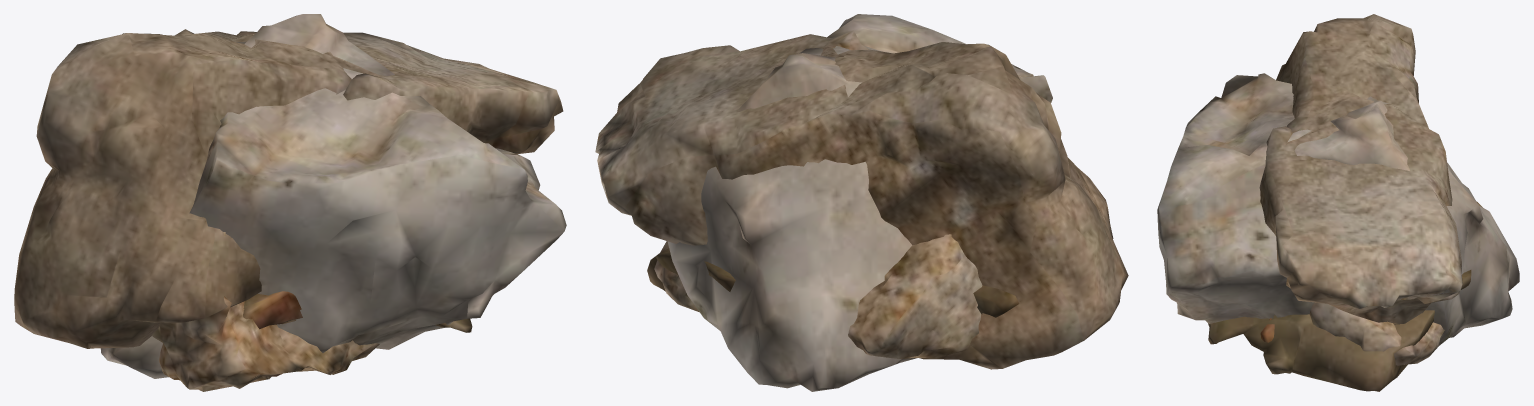
The model's file is stones-small.glb.
The picture shows the model from 3 angles, left to right: view 1: azimuth 30°, elevation 25°; view 2: azimuth 150°, elevation 25°; view 3: azimuth 270°, elevation 25°; orthographic projection. The views are drawn at different scales.
Parts seen in each view (by area): view 1: stones-small_b, stones-small_e, stones-small_c, stones-small_d; view 2: stones-small_b, stones-small_e, stones-small_c, stones-small_d; view 3: stones-small_b, stones-small_e, stones-small_d, stones-small_c.
Boxes of the visible parts, left/top/right/bottom form: stones-small_b: left=14, top=29, right=563, bottom=348; stones-small_e: left=100, top=14, right=566, bottom=378; stones-small_c: left=152, top=232, right=379, bottom=391; stones-small_d: left=243, top=291, right=472, bottom=332; stones-small_b: left=595, top=30, right=1128, bottom=369; stones-small_e: left=667, top=14, right=1052, bottom=391; stones-small_c: left=654, top=234, right=982, bottom=358; stones-small_d: left=647, top=248, right=1019, bottom=317; stones-small_b: left=1259, top=14, right=1462, bottom=324; stones-small_e: left=1157, top=73, right=1519, bottom=345; stones-small_d: left=1208, top=270, right=1471, bottom=391; stones-small_c: left=1309, top=201, right=1482, bottom=365.
Size of the model in its own units: 0.1504 by 0.084 by 0.112.
Materials: 1 (1 with a texture image).
